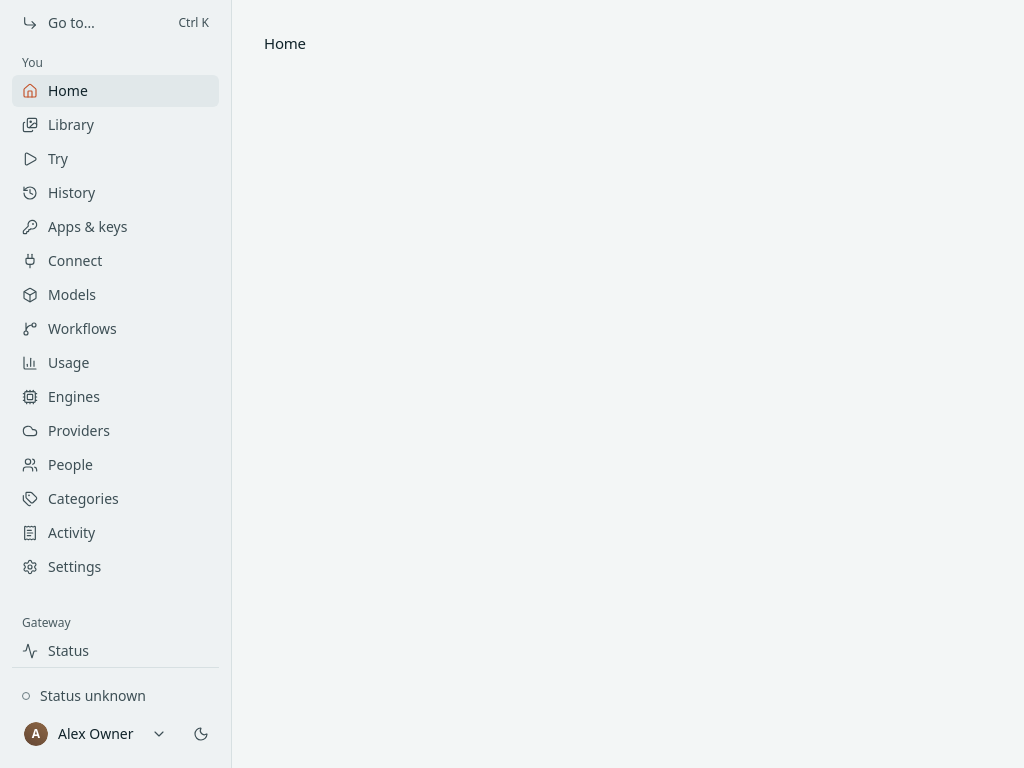
Scenario: AppShell accessible names › signs out through a POST with the current session CSRF token
(page scrolled)
Step 1. Click the button with aria-label "Account menu: Alex Owner" → (96, 734), box [12,718,179,750]
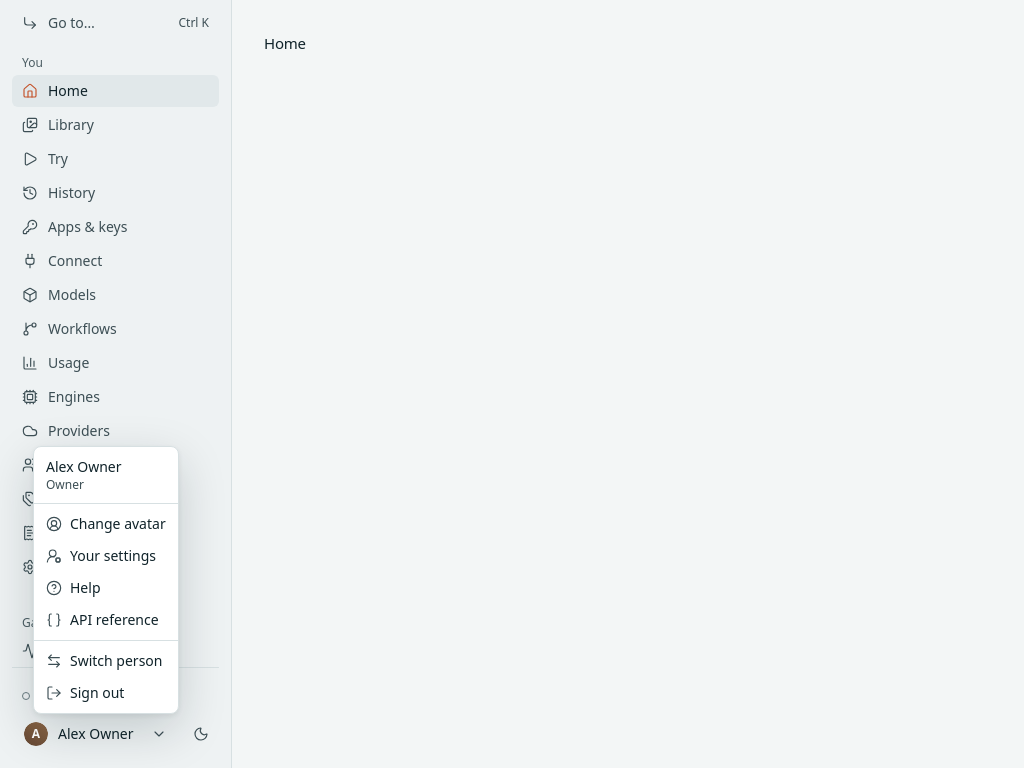
Step 2. Click the menu item "Sign out" → (85, 692), box [46,683,124,702]
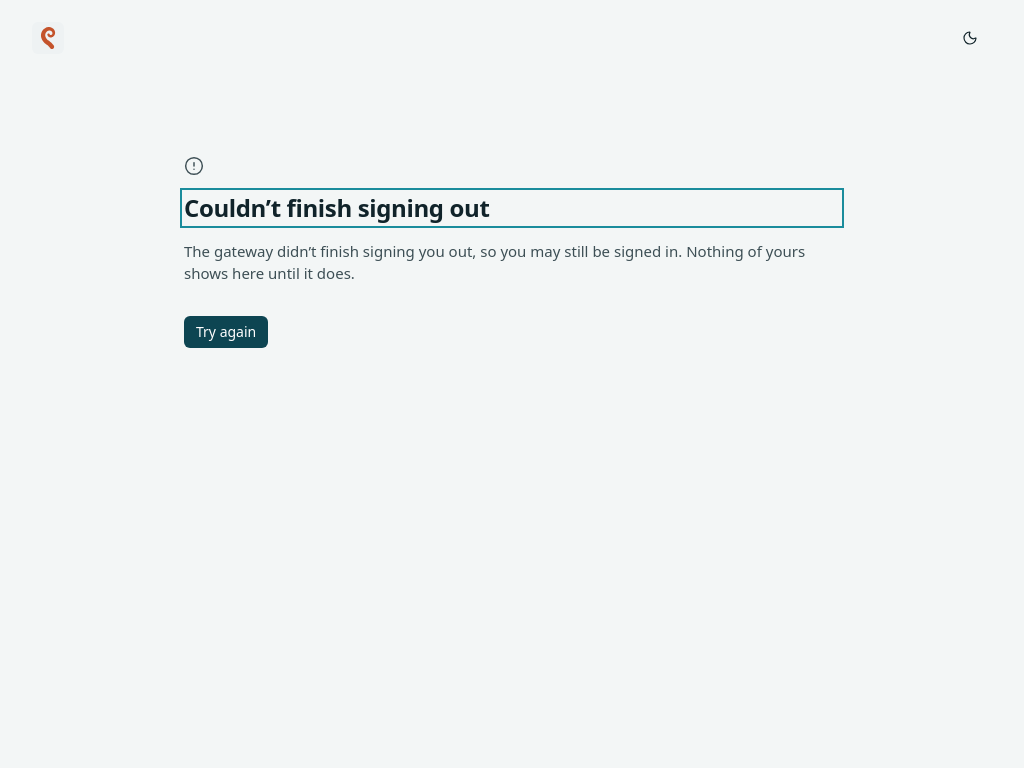
Now the heading "Couldn’t finish signing out" is shown, box [184,191,490,224]
Now the text "The gateway didn’t finish signing you out" is shown, box [184,241,805,283]
